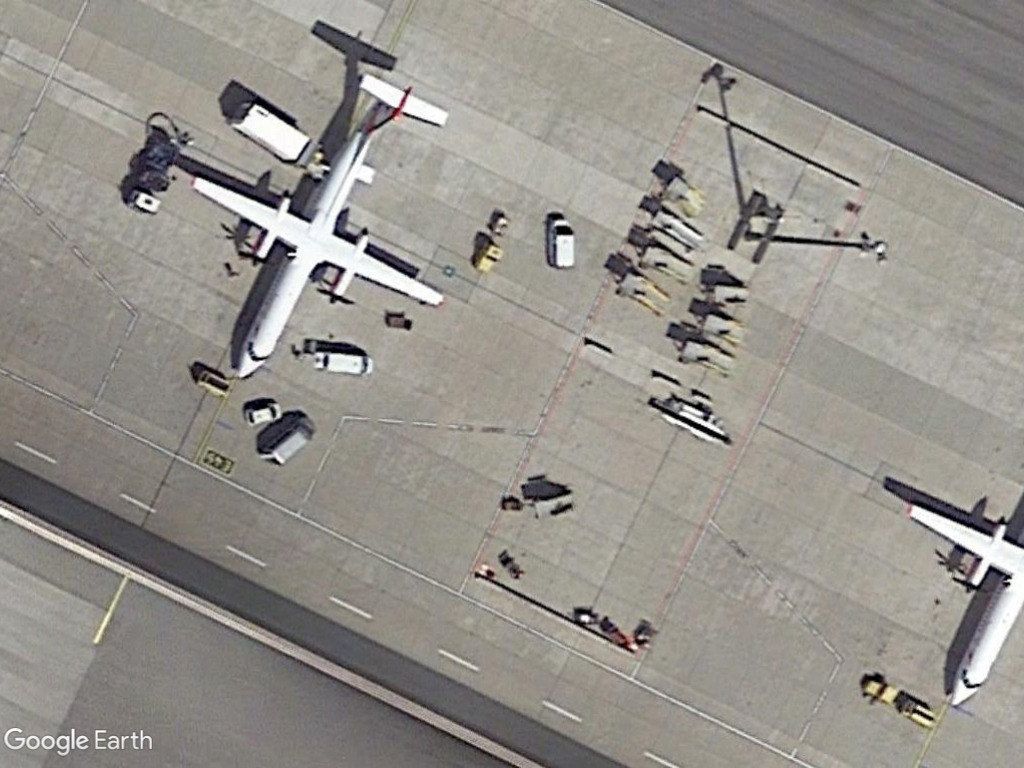car: (242, 399, 285, 429)
propeller: (183, 67, 453, 386)
stairtruck: (634, 239, 701, 293), (638, 213, 701, 269), (614, 267, 674, 320), (675, 334, 738, 381)
van: (545, 213, 580, 273)
